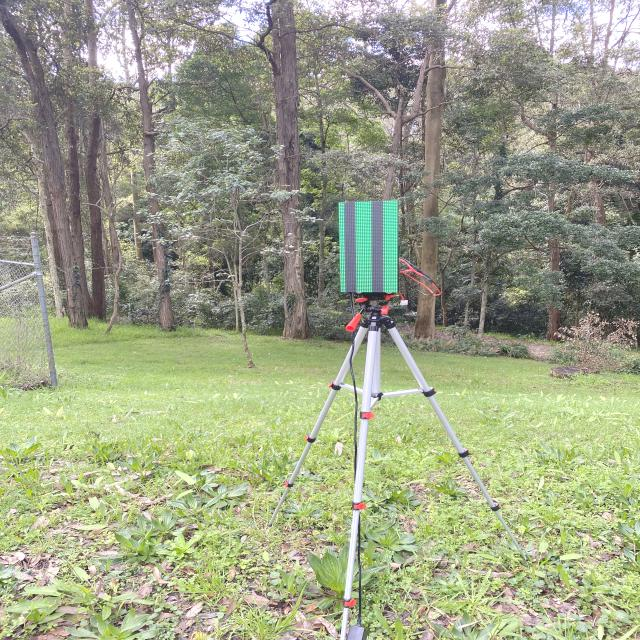matrix: (336, 194, 406, 298)
